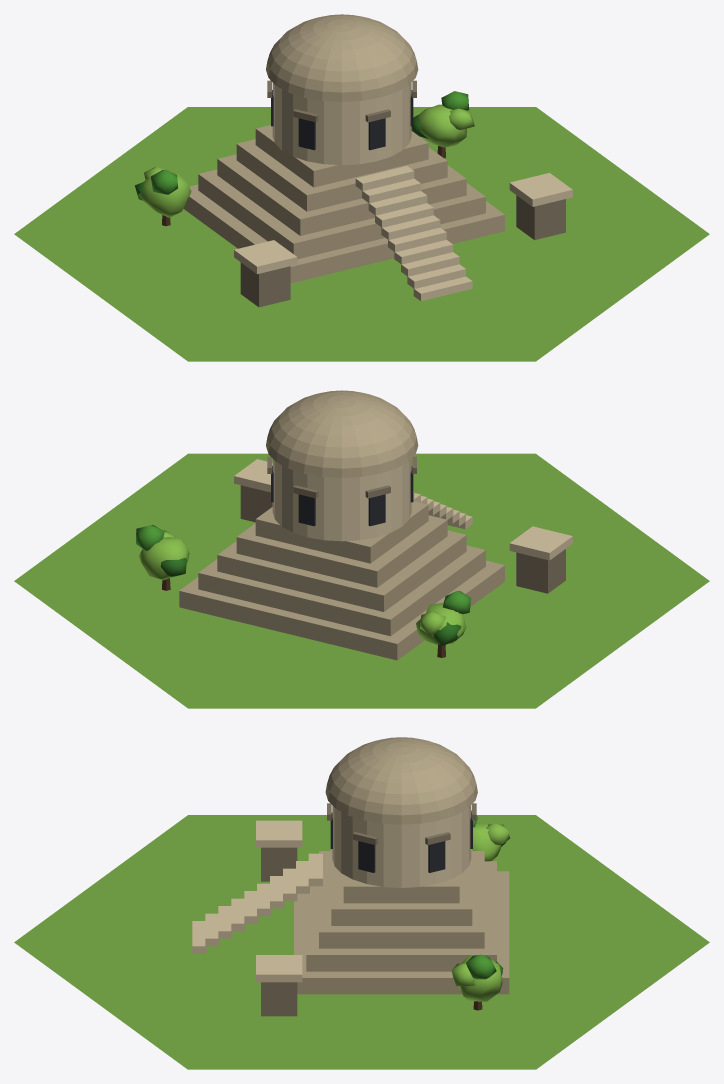
File: district_observatory_1.fbx
The picture shows the model from 3 angles, top to bottom: view 1: azimuth 30°, elevation 25°; view 2: azimuth 150°, elevation 25°; view 3: azimuth 270°, elevation 25°; orthographic projection.
Parts seen in each view (by area): view 1: district_observatory_1; view 2: district_observatory_1; view 3: district_observatory_1.
Part boxes in pixels (bbox=[...]): district_observatory_1: bbox=[14, 14, 709, 361]; district_observatory_1: bbox=[14, 390, 709, 708]; district_observatory_1: bbox=[14, 737, 709, 1069].
Size of the model in its own units: 182 by 64.9 by 210.
